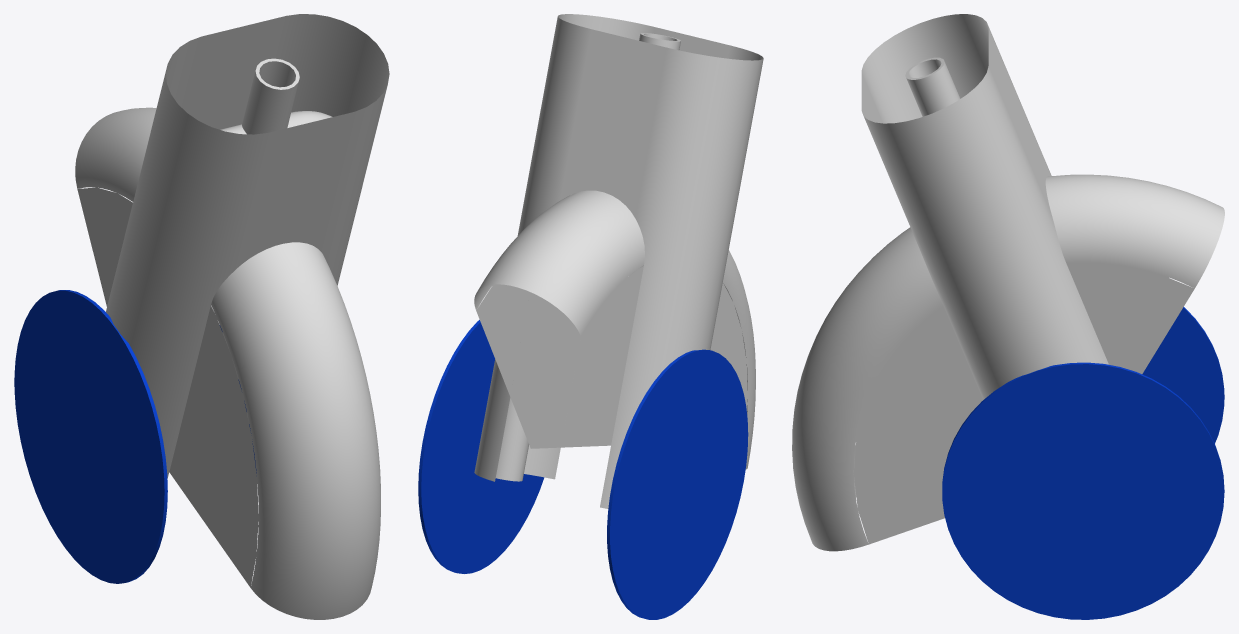
File: frontwheel body.obj
3 views of the same model, side by side, from view 1: azimuth 30°, elevation 25°; view 2: azimuth 150°, elevation 25°; view 3: azimuth 270°, elevation 25° (orthographic). The views are drawn at different scales.
Parts seen in each view (by area): view 1: mesh1, mesh2; view 2: mesh1, mesh2; view 3: mesh1, mesh2.
Boxes of the visible parts, left/top/right/bottom form: mesh1: left=75, top=14, right=389, bottom=619; mesh2: left=14, top=290, right=256, bottom=583; mesh1: left=474, top=14, right=763, bottom=508; mesh2: left=418, top=320, right=748, bottom=619; mesh1: left=792, top=14, right=1224, bottom=551; mesh2: left=942, top=307, right=1224, bottom=619.
Size of the model in its own units: 0.128 by 0.3283 by 0.2451.
